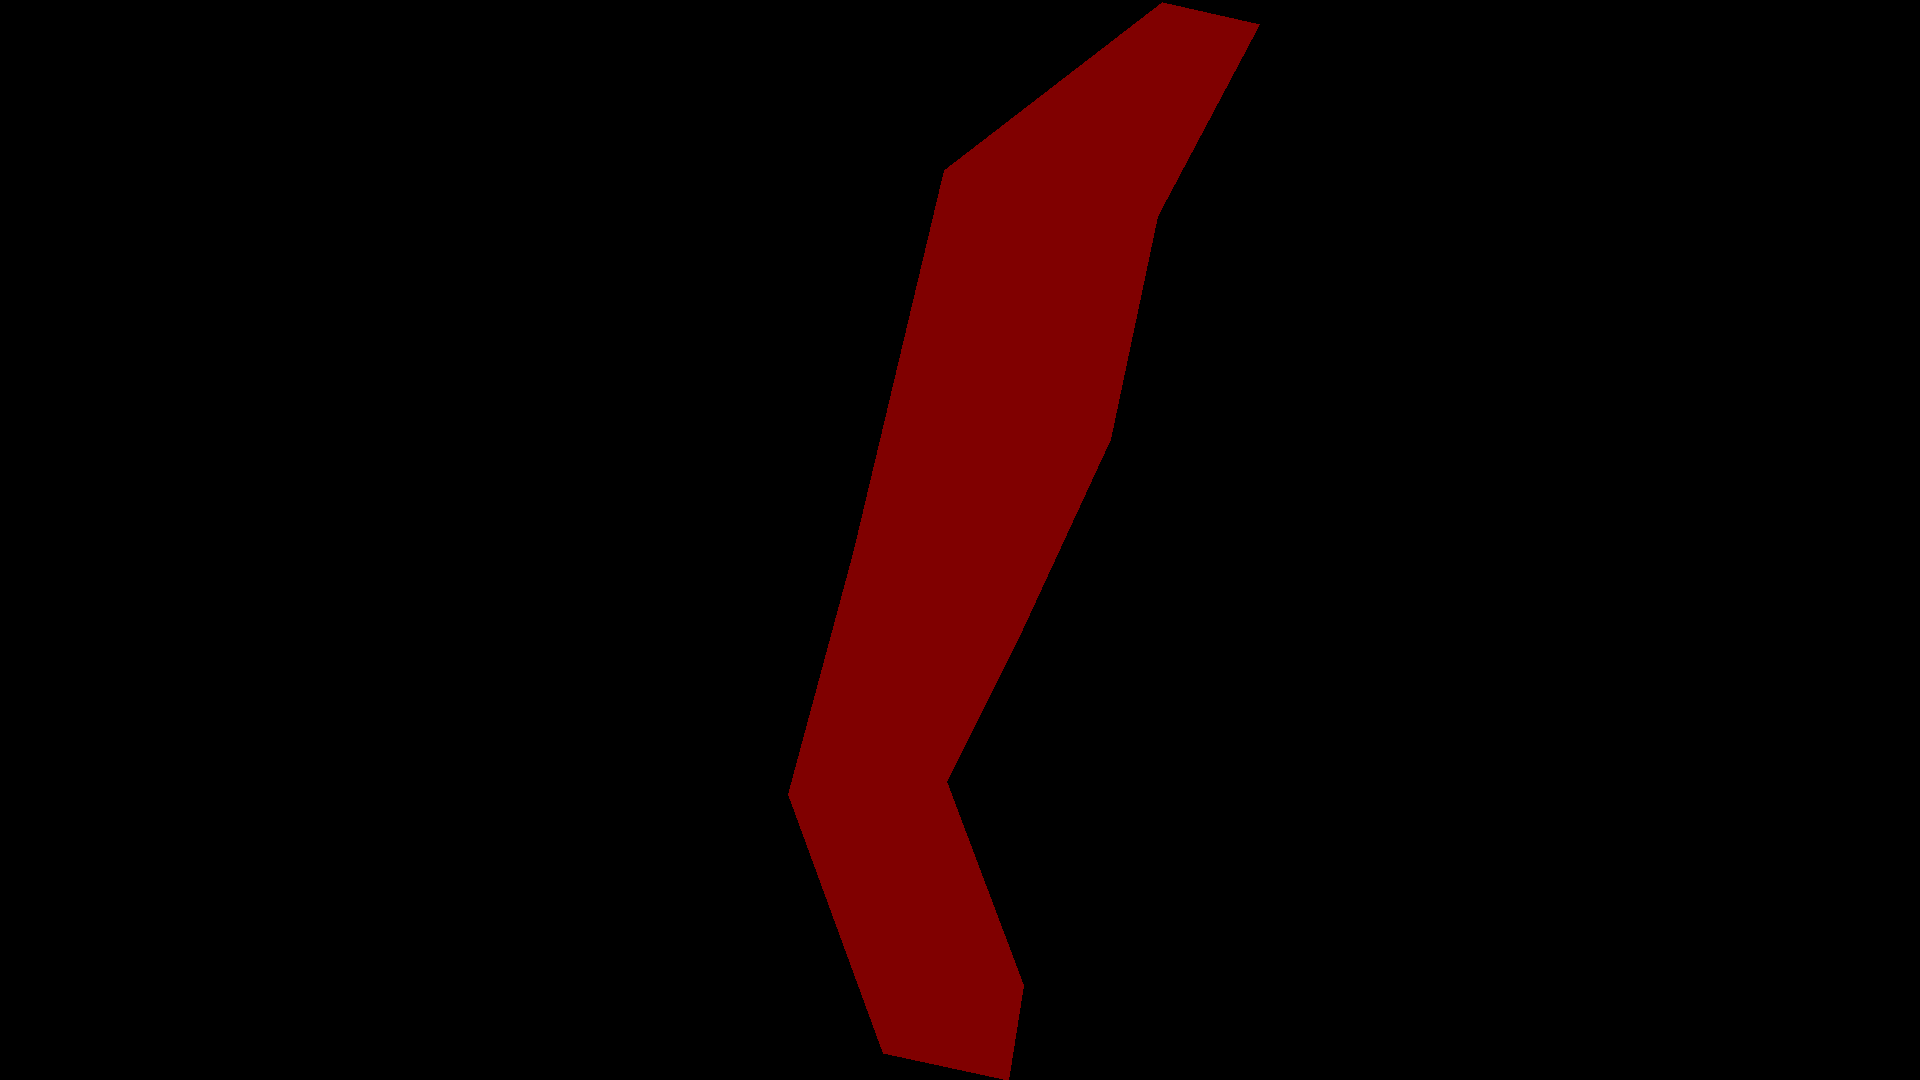fire: (789, 3, 1259, 1080)
